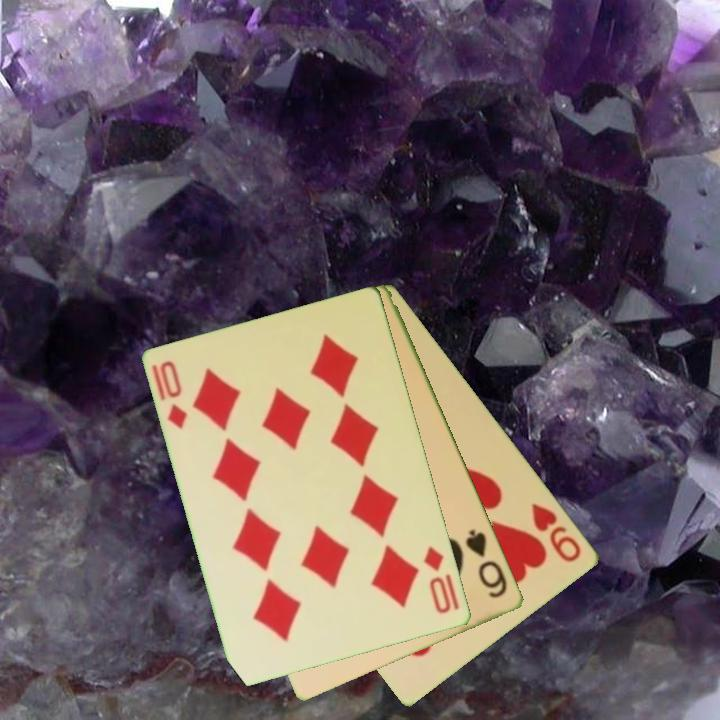10d: (420, 543, 455, 617), (157, 357, 191, 433)
6s: (462, 526, 511, 602)
9h: (528, 500, 585, 566)
